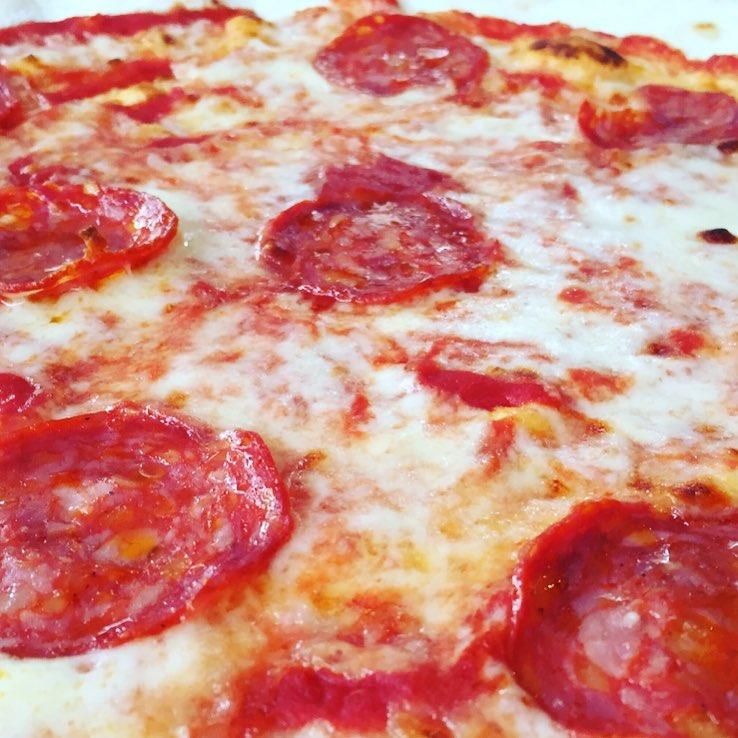Cheese: (550, 206, 738, 434), (326, 437, 501, 624), (175, 312, 410, 414), (329, 98, 562, 175), (210, 60, 326, 182)
Pepperoni: (0, 409, 294, 657), (514, 503, 738, 738), (259, 198, 494, 302), (394, 328, 654, 416), (0, 181, 178, 293), (313, 11, 481, 94), (8, 126, 228, 181), (580, 81, 738, 149), (314, 157, 457, 202), (113, 87, 269, 128), (35, 60, 184, 97), (0, 64, 38, 127)
Pizza: (0, 12, 738, 738)
